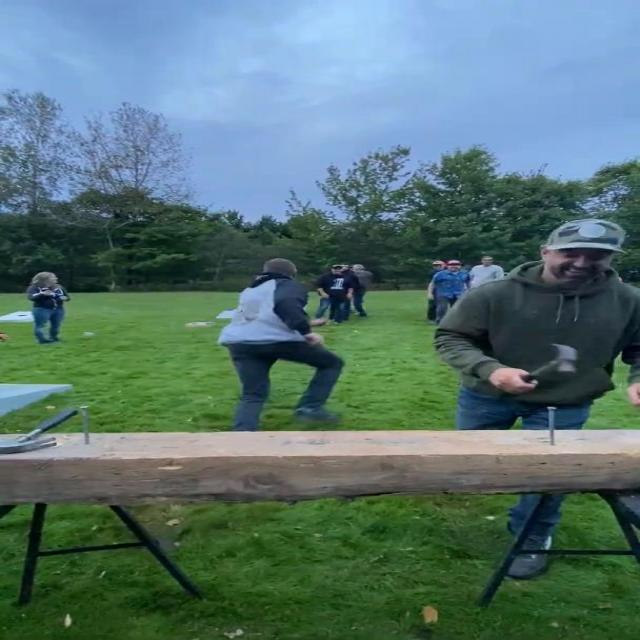hammer: (0, 408, 82, 453), (521, 339, 584, 387)
